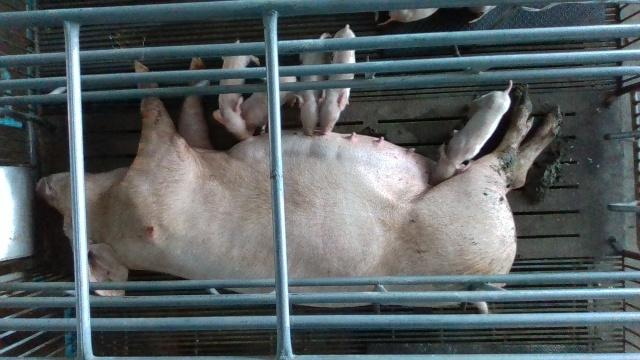piglet: (431, 79, 512, 185), (212, 38, 260, 141), (292, 31, 331, 136), (319, 25, 355, 134), (243, 76, 301, 136)
sow-sleep-lactate: (37, 58, 561, 314)
